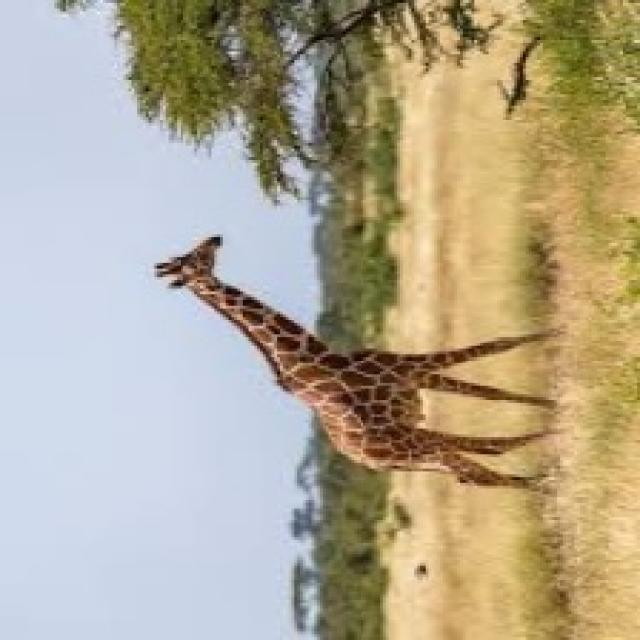bear: (172, 161, 571, 566)
